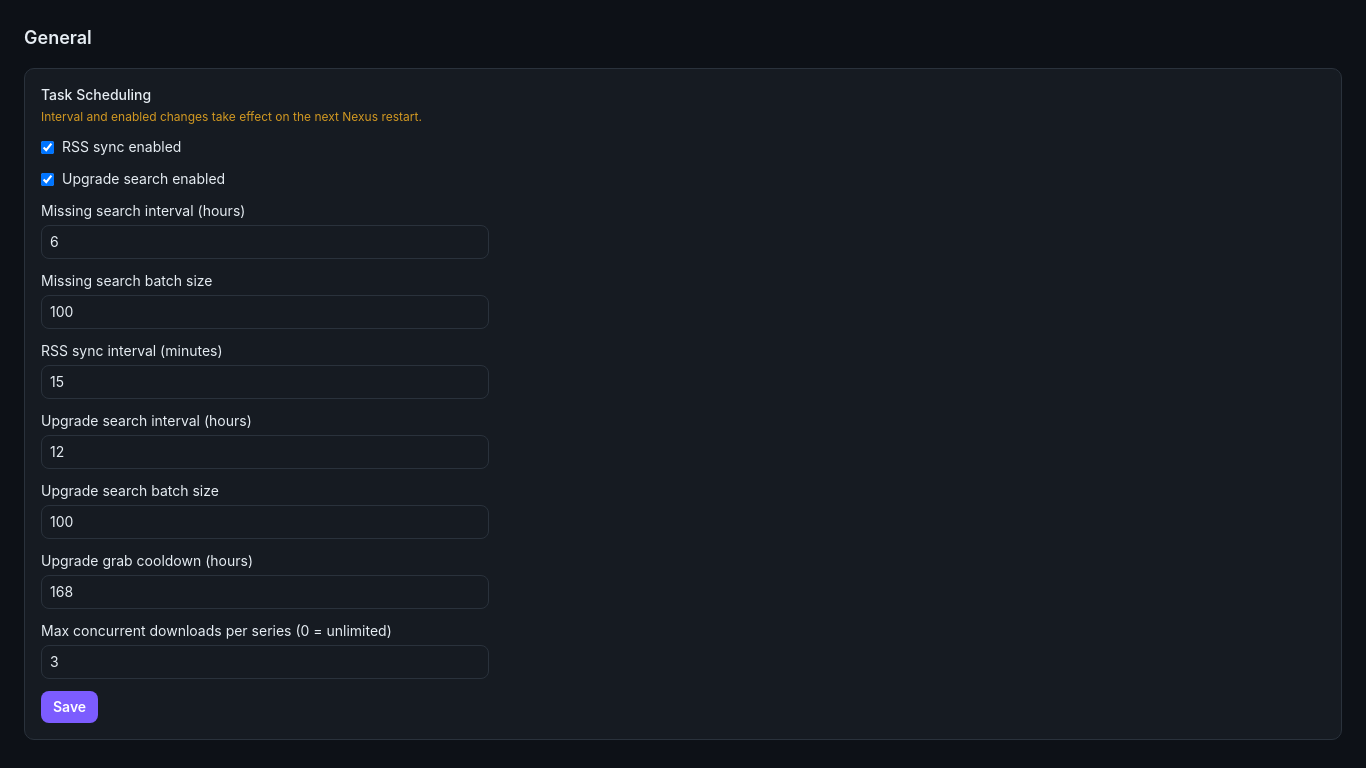
it: GeneralSection › re-syncs the form to the server config after a save that cleared a field
The image size is (1366, 768).
Clear the number field labelled "Missing search interval (hours)" at (265, 242), box top-left (41, 225), bottom-right (489, 259)
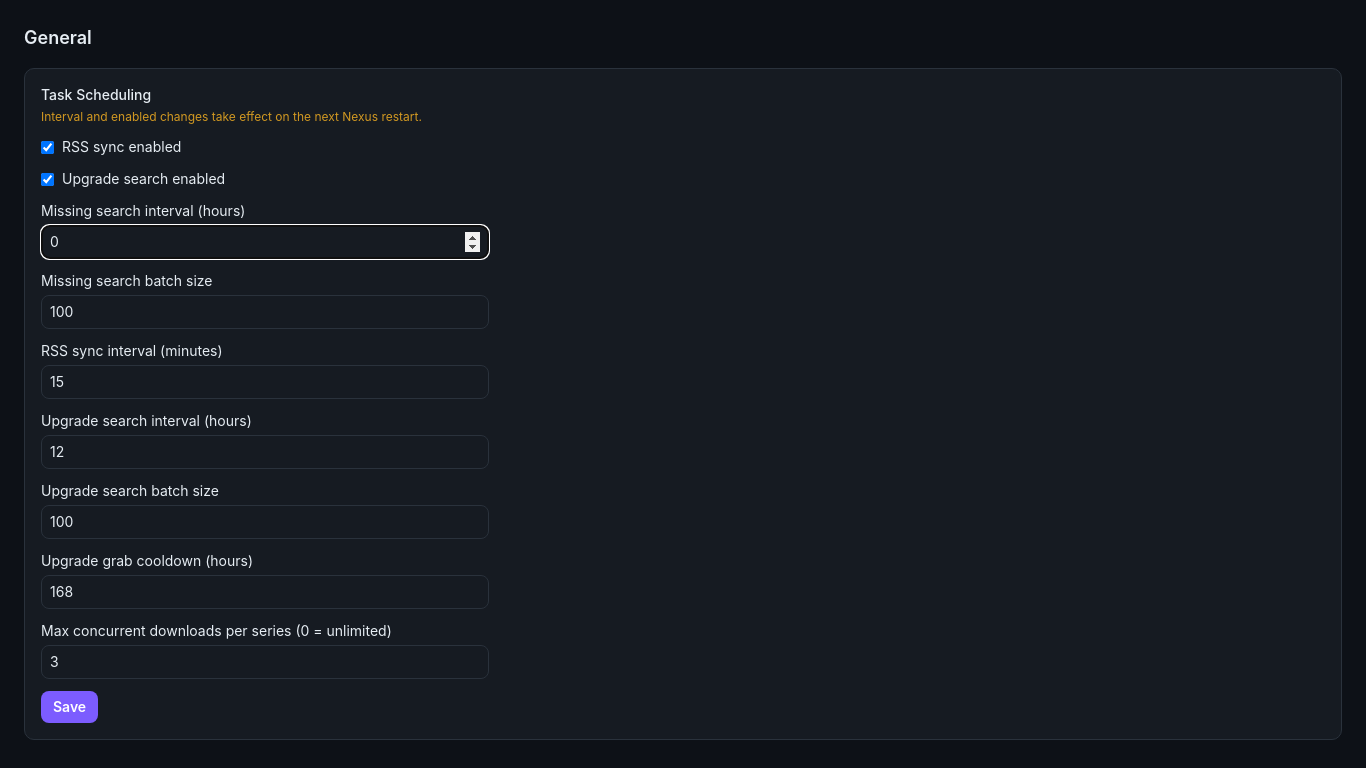
Expected: the number field labelled "Missing search interval (hours)" holds "0", top-left (41, 225), bottom-right (489, 259)
Click the button "Save".
click(70, 707)  # box top-left (41, 691), bottom-right (98, 723)
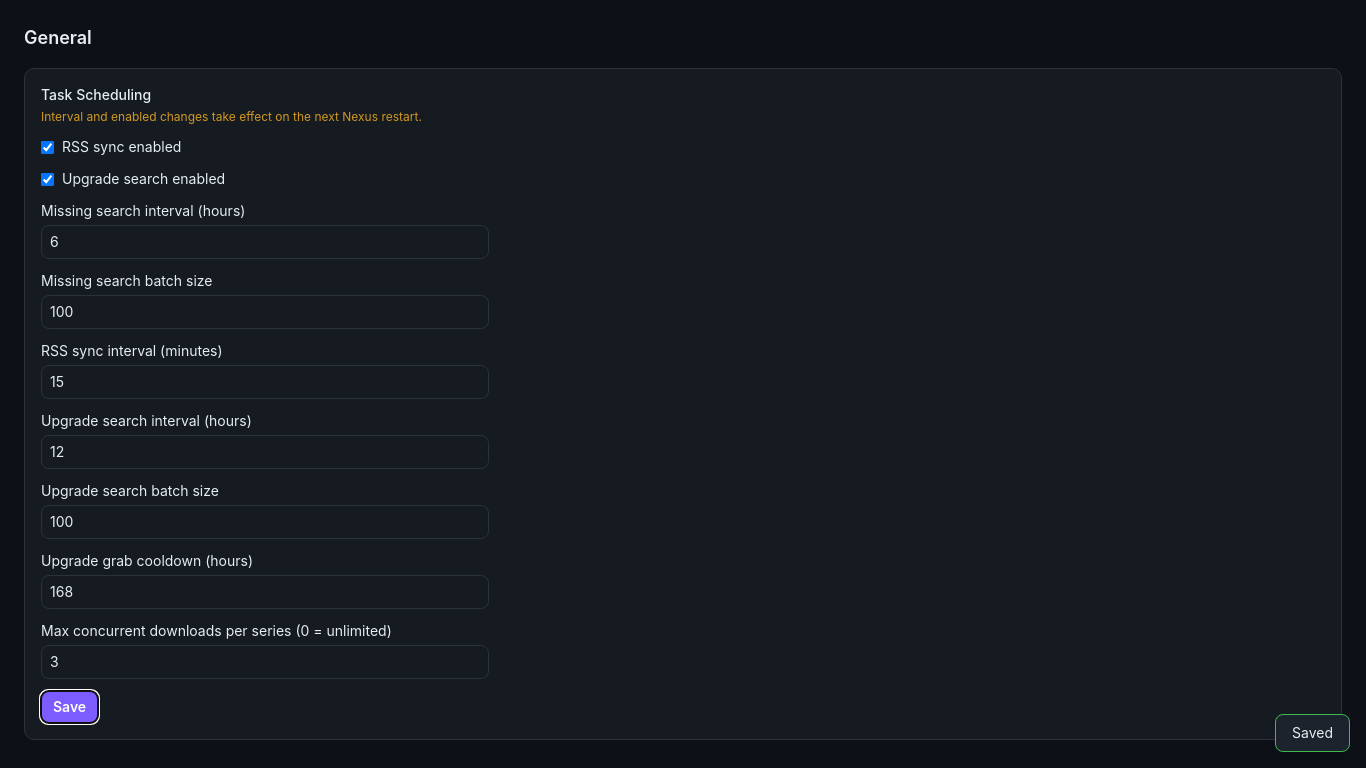
Expected: the number field labelled "Missing search interval (hours)" holds "6", top-left (41, 225), bottom-right (489, 259)
